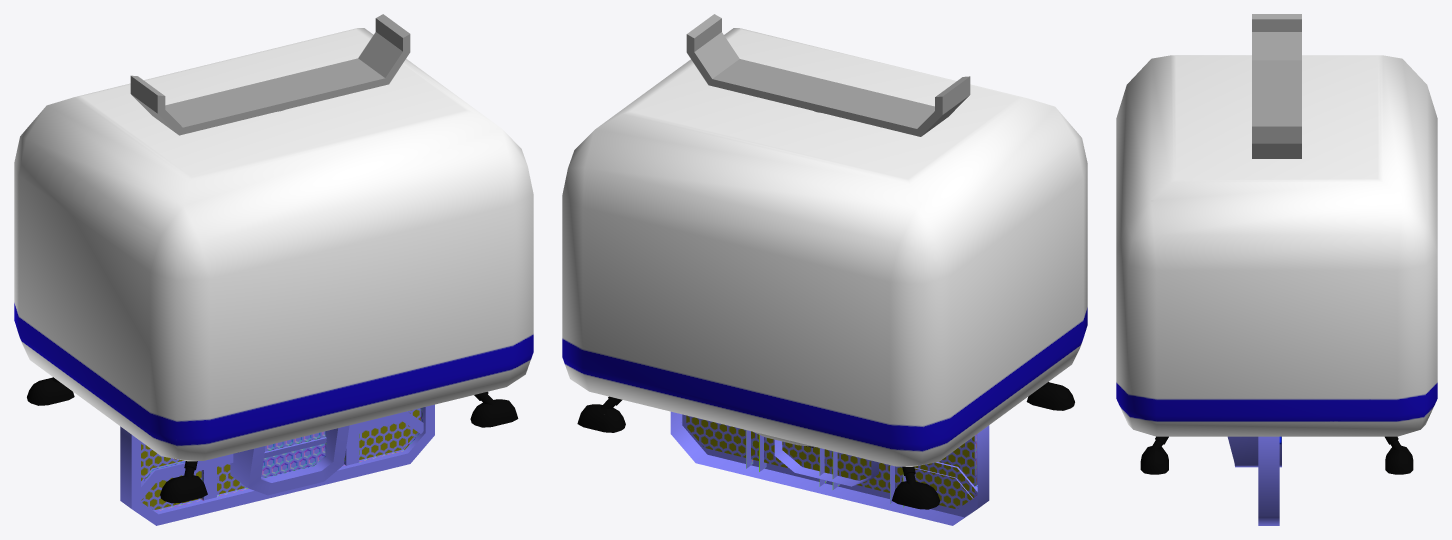
The model's file is Colonia.fbx.
3 renders of one model, left to right at view 1: azimuth 30°, elevation 25°; view 2: azimuth 150°, elevation 25°; view 3: azimuth 270°, elevation 25°, orthographic. The views are drawn at different scales.
Visible parts, largest first — view 1: ColonizadorLowPoly, SinalAstrogruveLowPoly, JanelaGrandeVariLowPoly, VitroLowPoly, JanelaGrandeLowPoly; view 2: ColonizadorLowPoly, JanelaGrandeVariLowPoly, SinalAstrogruveLowPoly, VitroLowPoly; view 3: ColonizadorLowPoly, SinalAstrogruveLowPoly, JanelaGrandeVariLowPoly, VitroLowPoly.
Part boxes in pixels (x1,y1,x2,y2): ColonizadorLowPoly: (14, 28, 533, 503); SinalAstrogruveLowPoly: (130, 14, 410, 135); JanelaGrandeVariLowPoly: (120, 404, 434, 525); VitroLowPoly: (230, 425, 349, 495); JanelaGrandeLowPoly: (141, 411, 423, 500); ColonizadorLowPoly: (562, 28, 1087, 509); JanelaGrandeVariLowPoly: (670, 411, 989, 525); SinalAstrogruveLowPoly: (686, 14, 970, 136); VitroLowPoly: (774, 440, 878, 486); ColonizadorLowPoly: (1116, 55, 1437, 474); SinalAstrogruveLowPoly: (1252, 14, 1301, 158); JanelaGrandeVariLowPoly: (1258, 436, 1279, 525); VitroLowPoly: (1227, 436, 1281, 467).
Size of the model in its own units: 500 by 546 by 400.
